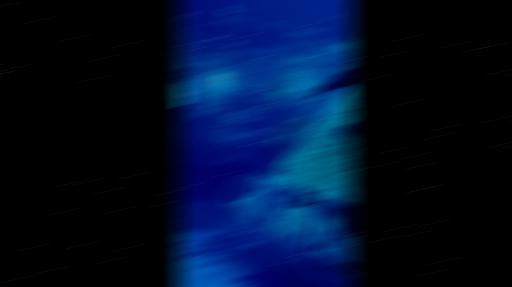Fish: (304, 69, 355, 98), (333, 205, 354, 238), (286, 23, 323, 39), (283, 116, 306, 139), (292, 189, 319, 208), (231, 17, 262, 29), (177, 64, 200, 76), (337, 123, 354, 139), (264, 17, 279, 31), (270, 89, 287, 99), (177, 13, 196, 21), (274, 133, 284, 146), (316, 239, 329, 249), (294, 228, 307, 238), (223, 9, 238, 17), (198, 53, 213, 59), (221, 6, 234, 12), (188, 24, 201, 30), (210, 35, 225, 40), (301, 116, 318, 120), (226, 43, 243, 47), (220, 19, 235, 23), (328, 14, 337, 20), (298, 30, 305, 34)
